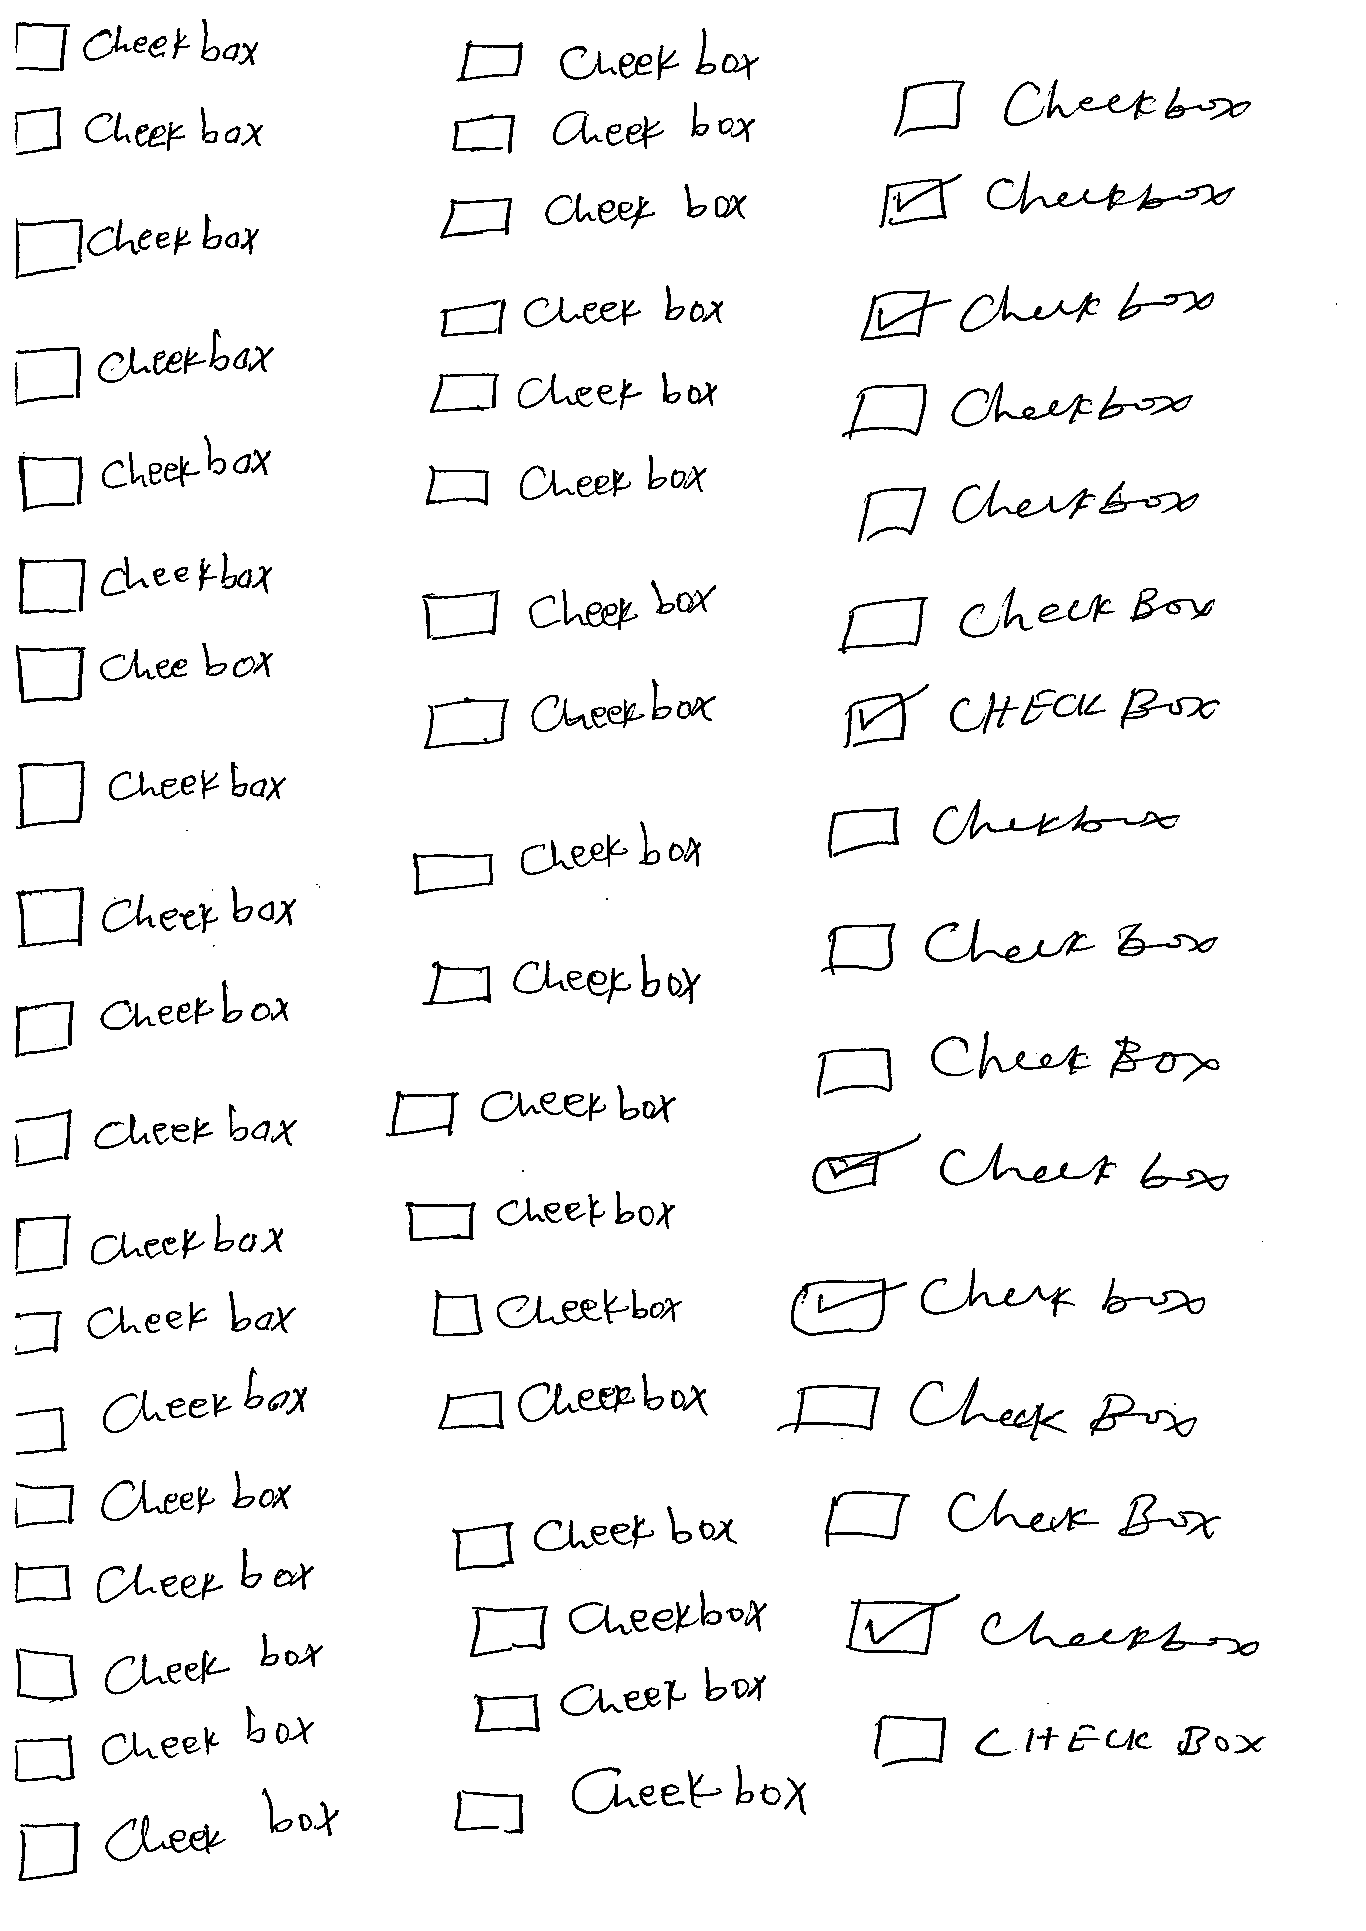Check Box: (844, 1591, 1260, 1669), (812, 1133, 1229, 1207), (786, 1272, 1206, 1341), (794, 1377, 1197, 1448), (843, 581, 1217, 656), (815, 1028, 1226, 1096), (19, 1801, 349, 1884), (820, 1484, 1221, 1551), (454, 1768, 807, 1839), (877, 1709, 1265, 1771), (826, 914, 1217, 974), (843, 688, 1223, 750), (859, 279, 1214, 345), (410, 822, 707, 897), (894, 74, 1252, 135), (843, 377, 1192, 439), (880, 172, 1242, 231), (16, 754, 287, 832), (12, 986, 293, 1062), (13, 1717, 313, 1786), (421, 682, 717, 751), (826, 801, 1183, 859), (13, 883, 299, 951), (418, 580, 716, 645), (12, 1643, 327, 1703), (472, 1672, 766, 1736), (12, 1211, 285, 1279), (9, 337, 276, 407), (10, 636, 276, 705), (19, 439, 272, 512), (449, 1511, 733, 1575), (469, 1597, 764, 1657), (10, 211, 257, 284), (13, 1107, 297, 1170), (389, 1082, 677, 1141), (857, 483, 1195, 534), (13, 552, 271, 617), (424, 952, 707, 1011), (439, 186, 751, 240), (10, 101, 266, 163), (10, 12, 262, 74), (436, 285, 729, 339), (454, 38, 761, 87), (10, 1476, 297, 1527), (12, 1557, 313, 1606), (435, 1381, 711, 1433), (449, 106, 758, 152), (432, 370, 721, 418), (429, 1286, 684, 1341), (424, 458, 707, 507), (401, 1192, 673, 1242)
